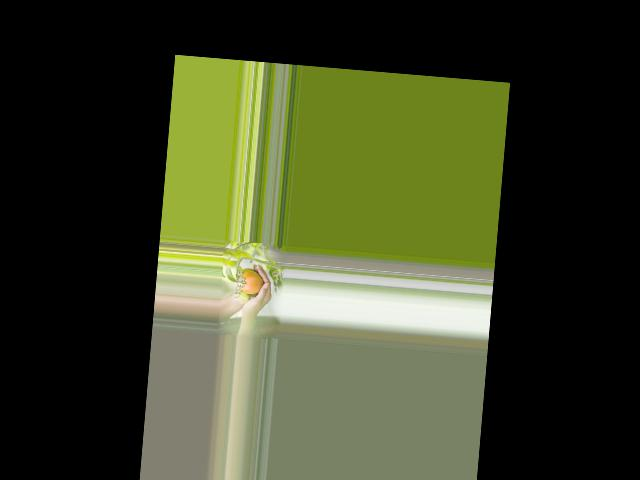tomato: (238, 270, 263, 295)
